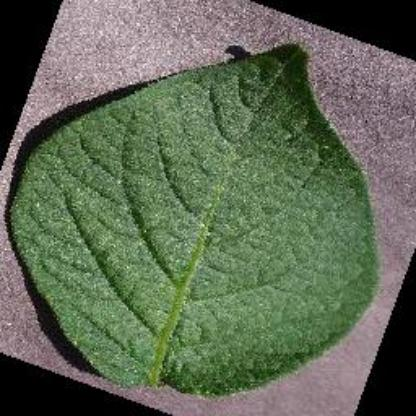Healthy-plant: (9, 43, 385, 395)
